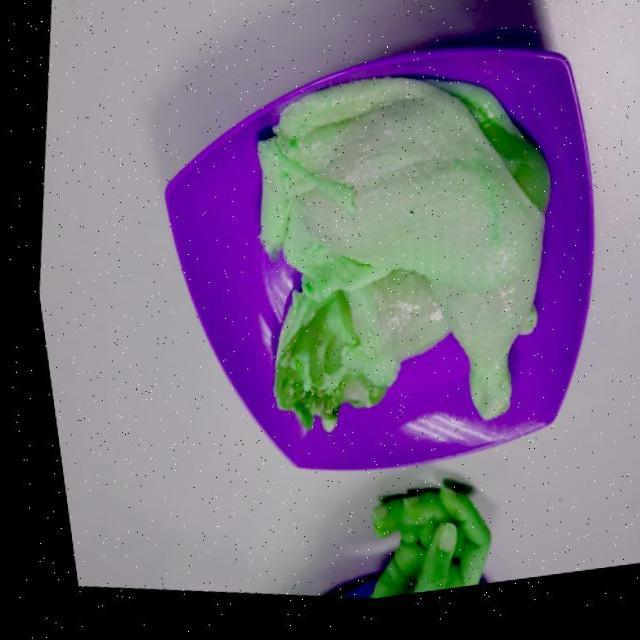quater: (280, 103, 544, 434), (231, 280, 482, 420)
